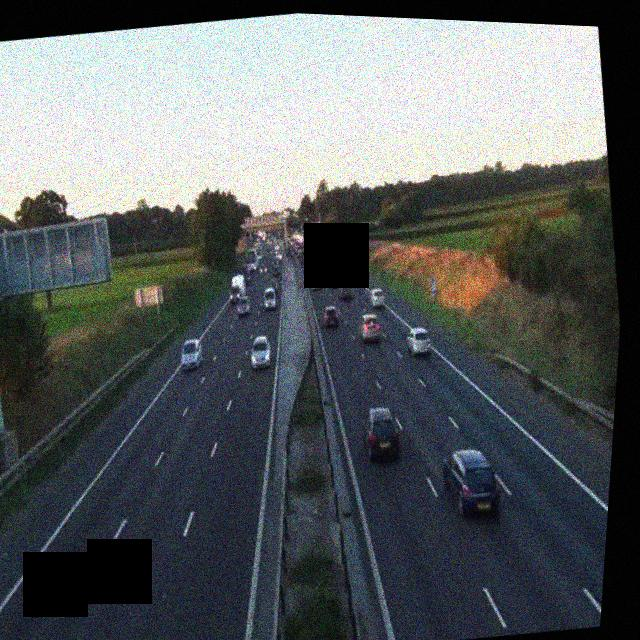car: (438, 443, 506, 523), (358, 404, 405, 464), (404, 325, 435, 358), (177, 337, 206, 371), (249, 335, 274, 371), (358, 312, 386, 344), (321, 302, 341, 329), (368, 286, 388, 309), (235, 296, 253, 319), (262, 289, 279, 311), (339, 282, 354, 301), (346, 267, 359, 285), (311, 274, 324, 291), (271, 263, 282, 277)
truck: (322, 234, 345, 271), (228, 272, 251, 304), (328, 267, 345, 289)
